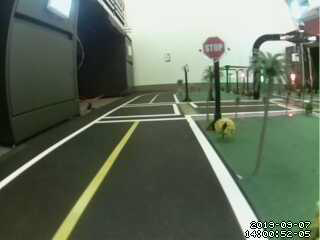Stop_Sign: (200, 34, 231, 62)
